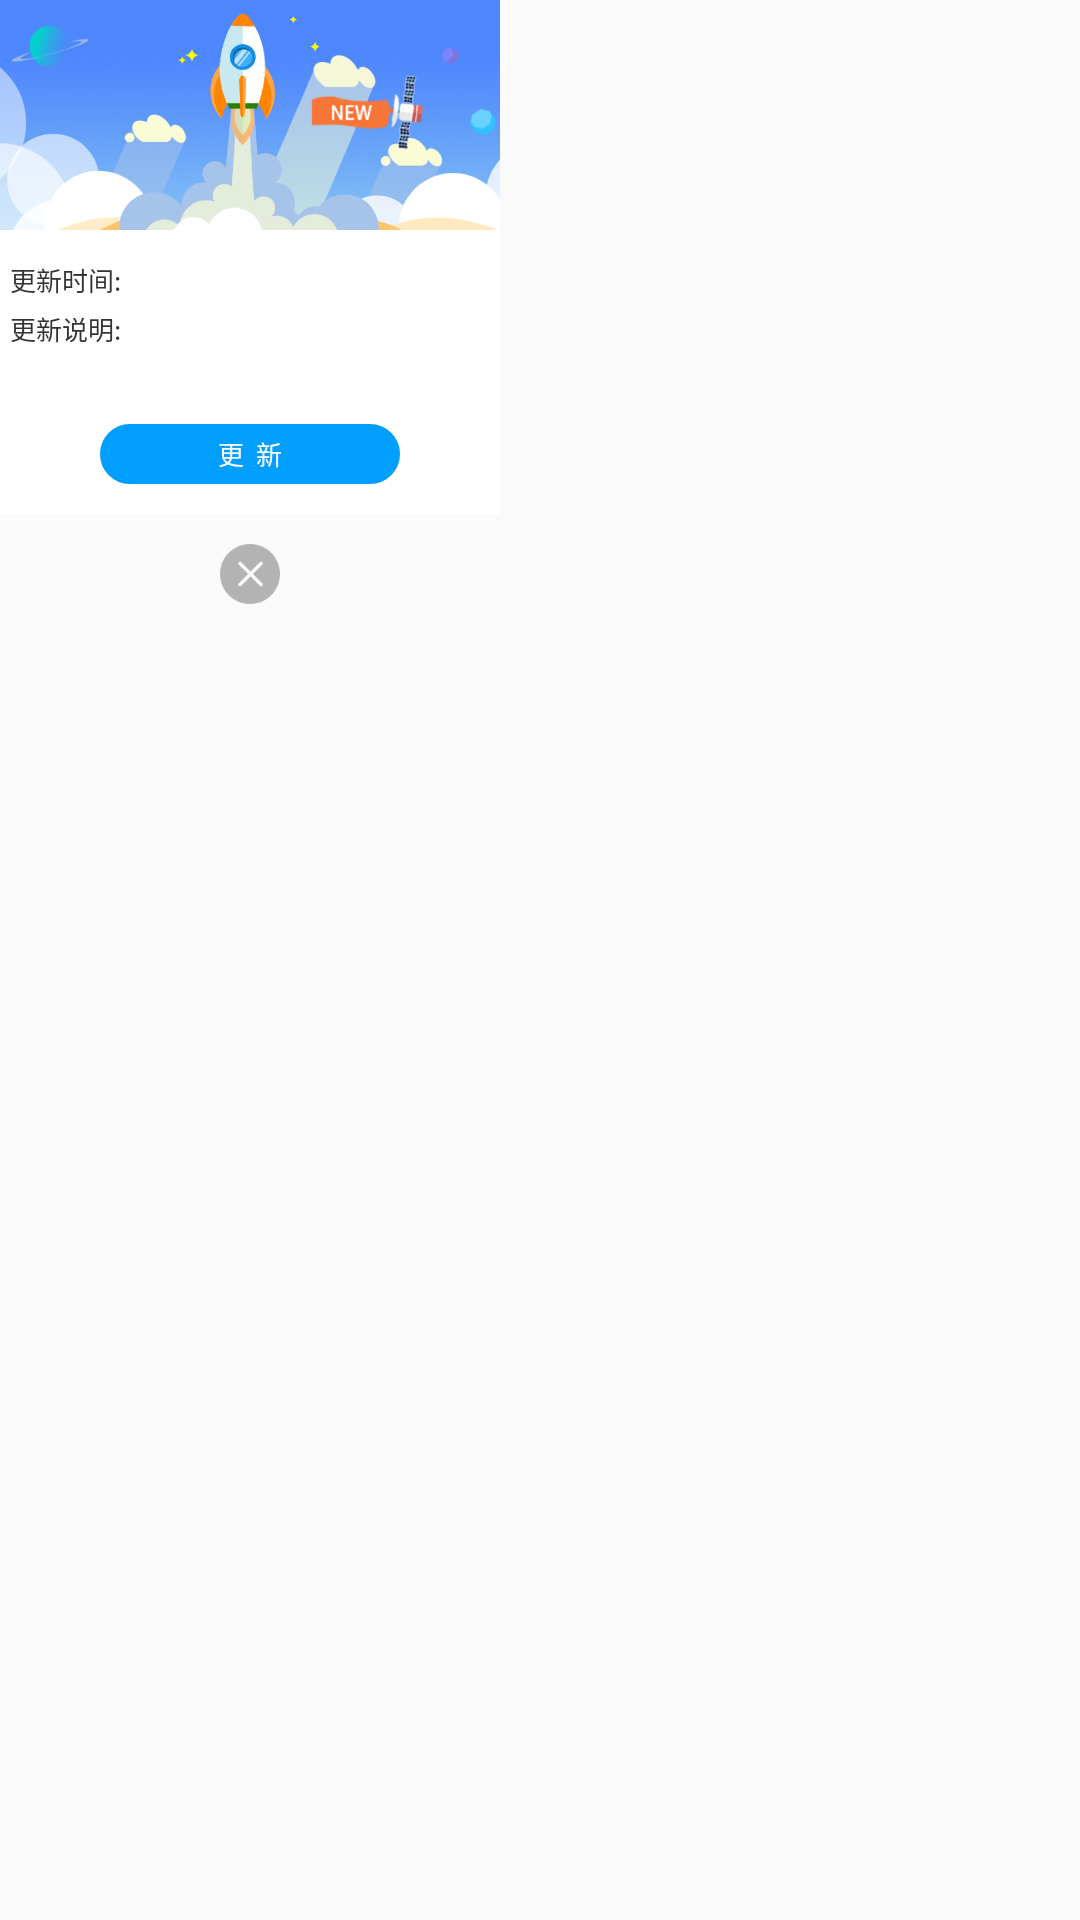

Locate icon controls on the screen. Image size 1080*1920, boxes as box(x1, y1, x2, y2).
updata cancel: box(220, 544, 280, 604)
